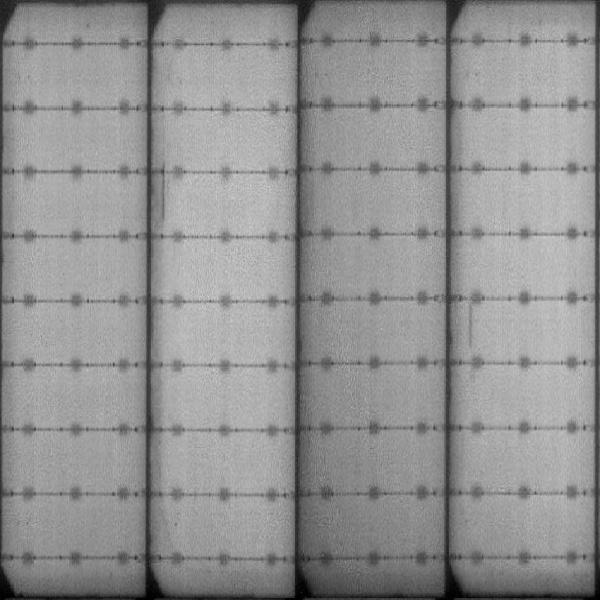scratch: (153, 171, 173, 226)
